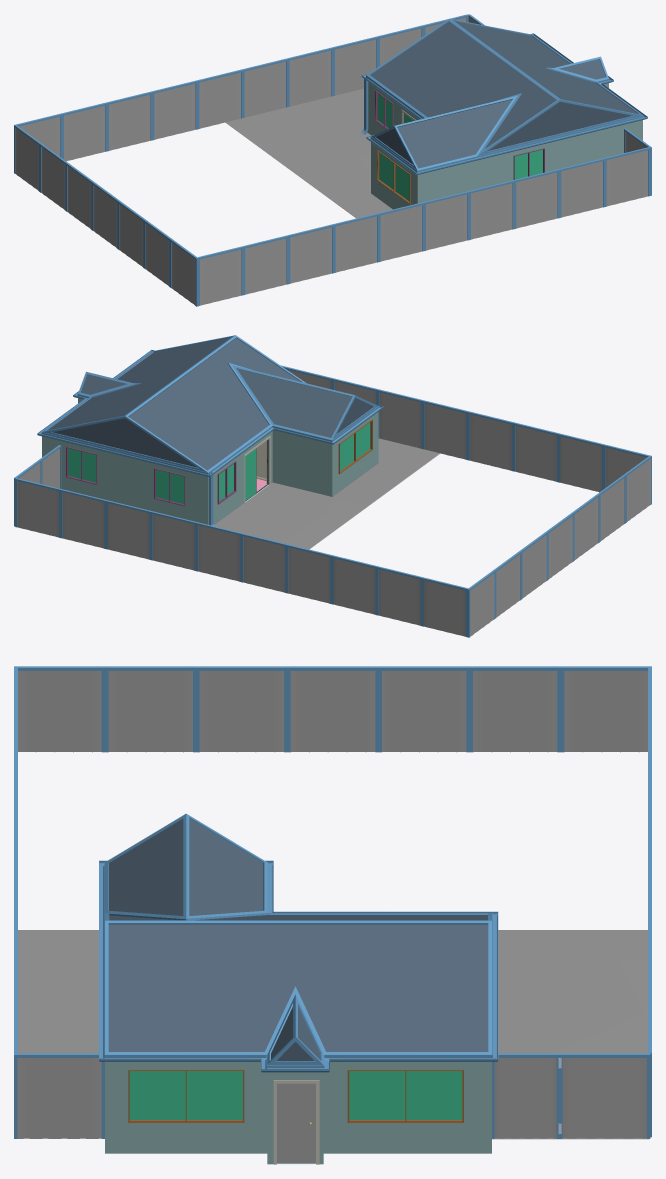
Rendered from houseGeo_2.fbx.
3 views of the same model, one above another, from view 1: azimuth 30°, elevation 25°; view 2: azimuth 150°, elevation 25°; view 3: azimuth 270°, elevation 25° (orthographic). The views are drawn at different scales.
Visible parts, largest first — view 1: roof, concrete, outerWalls, fence4 (×3), fence1 (×3), fence3 (×3), fence6 (×3), fence5 (×3), fence7 (×3), fence8 (×2), fence9 (×2), fence10 (×2) (+7 smaller); view 2: roof, outerWalls, concrete, fence3 (×3), fence1 (×3), fence4 (×3), fence5 (×3), fence7 (×3), fence8 (×2), fence6 (×3), fence9 (×2), fence11 (+10 smaller); view 3: roof, concrete, outerWalls, fence3, fence5, fence1, fence2, fence4, backGate, frontFence1, fence6, fence7 (+6 smaller).
Part boxes in pixels (x1=…): roof: x1=367, y1=18, x2=642, y2=170; concrete: x1=225, y1=88, x2=392, y2=218; outerWalls: x1=367, y1=82, x2=642, y2=209; fence4 (×3): x1=66, y1=69, x2=424, y2=261; fence1 (×3): x1=61, y1=102, x2=288, y2=294; fence3 (×3): x1=92, y1=80, x2=378, y2=272; fence6 (×3): x1=14, y1=47, x2=514, y2=239; fence5 (×3): x1=40, y1=58, x2=469, y2=250; fence7 (×3): x1=16, y1=113, x2=243, y2=306; fence8 (×2): x1=106, y1=91, x2=333, y2=283; fence9 (×2): x1=332, y1=36, x2=559, y2=228; fence10 (×2): x1=377, y1=25, x2=604, y2=217; roof: x1=42, y1=335, x2=378, y2=472; outerWalls: x1=42, y1=398, x2=378, y2=524; concrete: x1=214, y1=438, x2=440, y2=549; fence3 (×3): x1=286, y1=411, x2=573, y2=603; fence1 (×3): x1=377, y1=433, x2=625, y2=626; fence4 (×3): x1=241, y1=400, x2=547, y2=598; fence5 (×3): x1=196, y1=389, x2=521, y2=618; fence7 (×3): x1=422, y1=444, x2=651, y2=637; fence8 (×2): x1=331, y1=422, x2=559, y2=615; fence6 (×3): x1=151, y1=378, x2=495, y2=637; fence9 (×2): x1=106, y1=367, x2=333, y2=559; fence11: x1=15, y1=478, x2=61, y2=537; roof: x1=105, y1=813, x2=491, y2=1065; concrete: x1=18, y1=930, x2=648, y2=1139; outerWalls: x1=105, y1=1061, x2=491, y2=1164; fence3: x1=287, y1=666, x2=378, y2=752; fence5: x1=469, y1=666, x2=560, y2=752; fence1: x1=105, y1=666, x2=196, y2=752; fence2: x1=196, y1=666, x2=287, y2=752; fence4: x1=378, y1=666, x2=469, y2=752; backGate: x1=559, y1=1053, x2=650, y2=1138; frontFence1: x1=14, y1=1053, x2=104, y2=1138; fence6: x1=561, y1=666, x2=651, y2=752; fence7: x1=14, y1=666, x2=104, y2=752.
Size of the model in its own units: 21.62 by 3.93 by 14.
